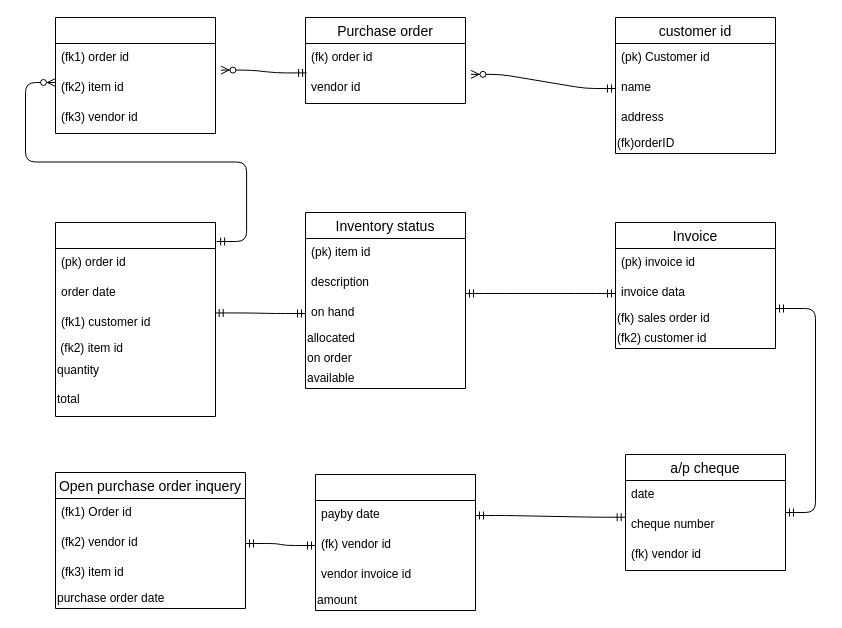
This 842x628 diagram has some shape labels left out. Here are the shapes that lost their labels. From the top down, the box of each, then its label:
(54, 16, 216, 134): Items on order
(54, 222, 216, 416): Sales order
(314, 474, 476, 610): a/p inquiry
